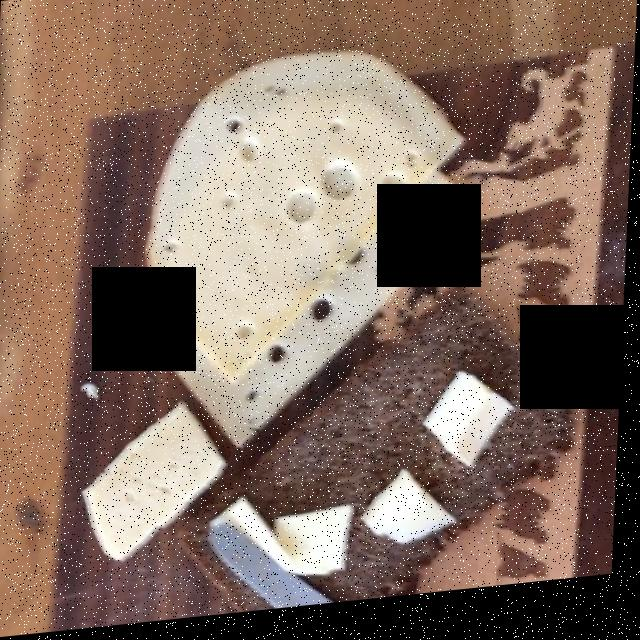bread-rye: (187, 284, 587, 607)
butter: (227, 378, 516, 574)
cheese: (66, 60, 473, 579)
